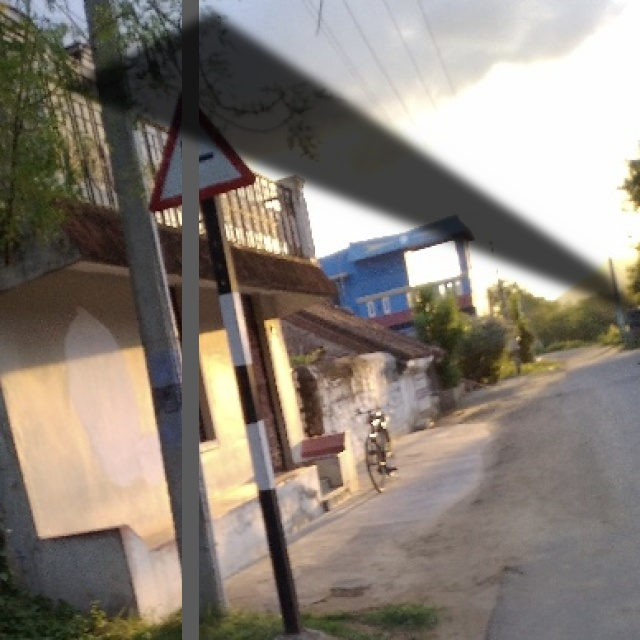Side_Road_Right: (139, 90, 260, 213)
